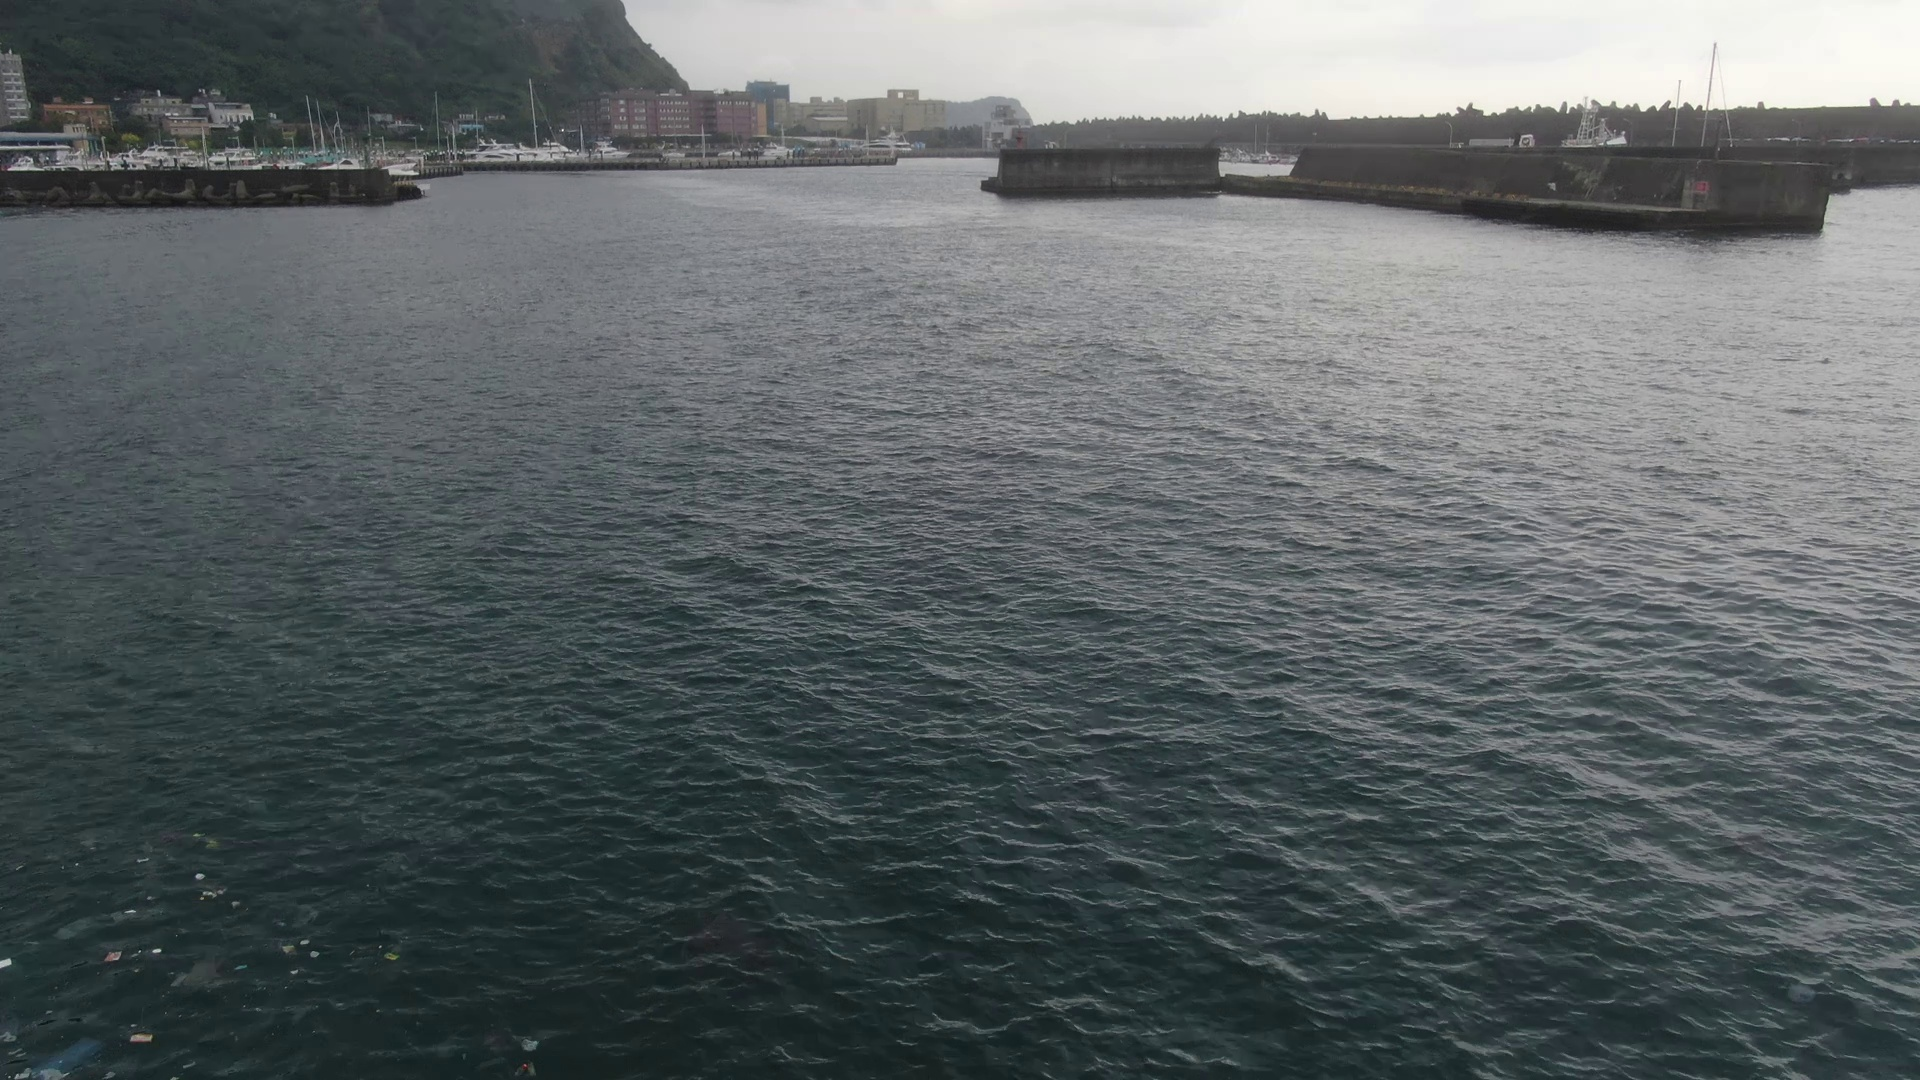garbage: (18, 1039, 108, 1077), (193, 832, 220, 851), (518, 1063, 538, 1079), (129, 1033, 154, 1043), (521, 1039, 539, 1052), (104, 949, 123, 963), (382, 949, 400, 963), (280, 944, 295, 956), (194, 872, 207, 882), (233, 965, 248, 971)
